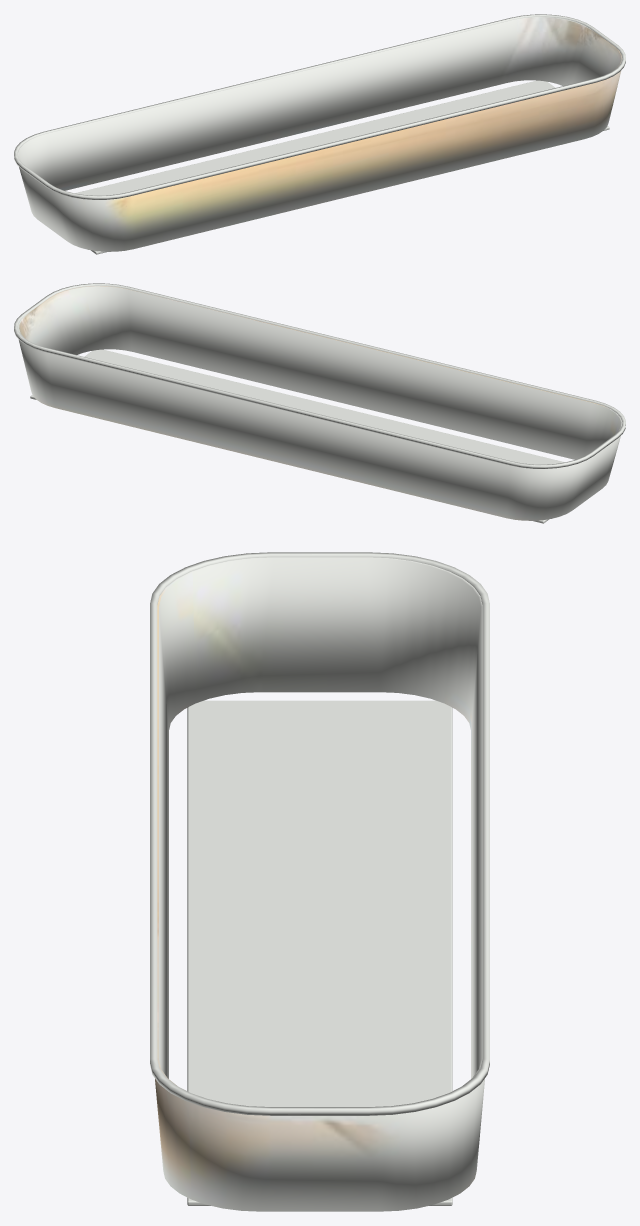
The picture shows the model from 3 angles, top to bottom: view 1: azimuth 30°, elevation 25°; view 2: azimuth 150°, elevation 25°; view 3: azimuth 270°, elevation 25°; orthographic projection. The views are drawn at different scales.
Visible parts, largest first — view 1: continuous rounded tapered body, body bottom, rounded rolled rim; view 2: continuous rounded tapered body, body bottom, rounded rolled rim; view 3: body bottom, continuous rounded tapered body, rounded rolled rim.
Part boxes in pixels (bbox=[...]): continuous rounded tapered body: bbox=[17, 17, 622, 251]; body bottom: bbox=[75, 80, 609, 254]; rounded rolled rim: bbox=[14, 14, 625, 199]; continuous rounded tapered body: bbox=[17, 286, 622, 520]; body bottom: bbox=[30, 349, 564, 523]; rounded rolled rim: bbox=[14, 283, 625, 468]; body bottom: bbox=[187, 700, 452, 1205]; continuous rounded tapered body: bbox=[155, 557, 484, 1211]; rounded rolled rim: bbox=[150, 552, 489, 1115].
Size of the model in its own units: 0.633 by 0.066 by 0.163.
Materials: 2 (1 with a texture image).
